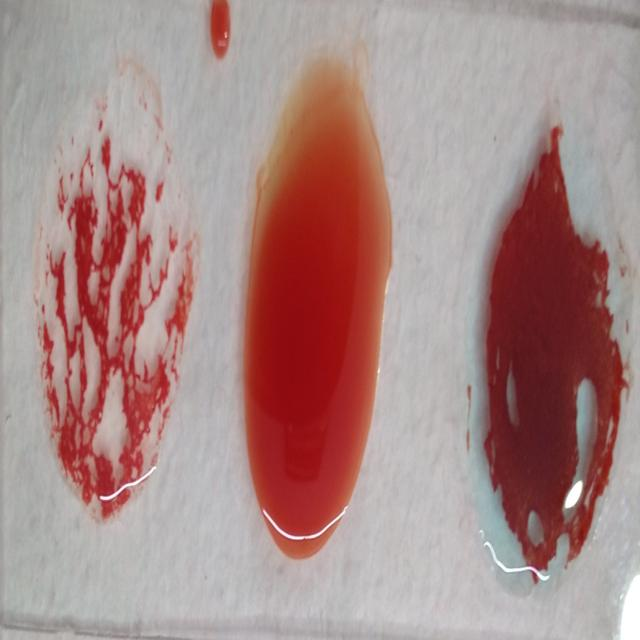A: (455, 104, 627, 598)
D: (39, 84, 186, 521)
